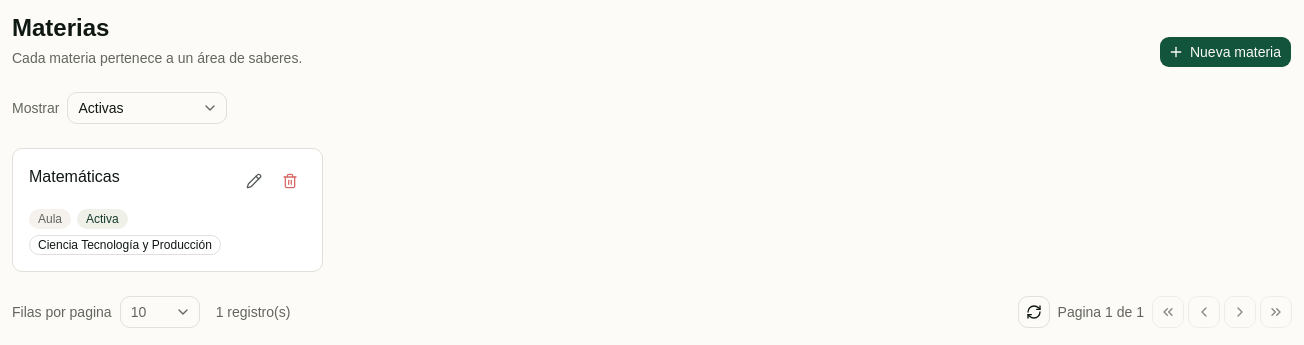
it: SubjectsPage status filter › lists both kinds under Todas
The image size is (1304, 345).
What coordinates should you click on to do the following:
click the dropdown named "Estado"
I would click on:
 (148, 108)
Its box is [68,92,228,124].
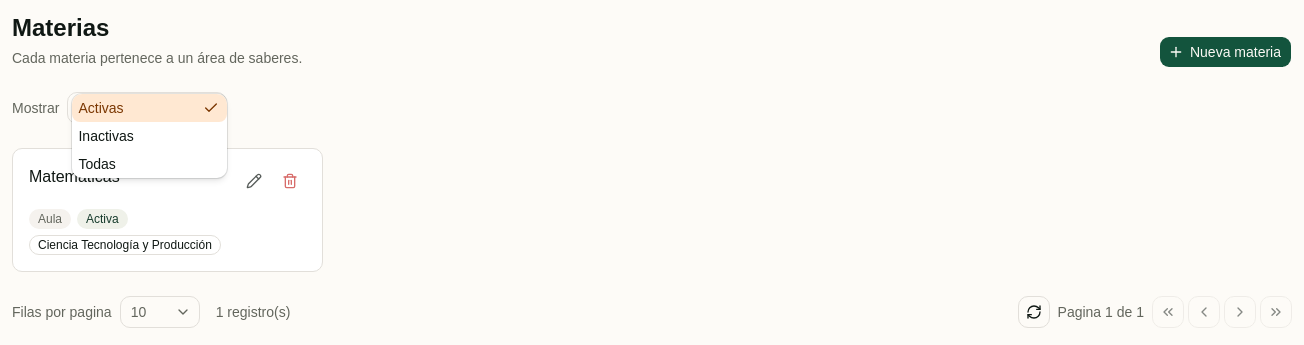
What coordinates should you click on to do the following:
click the option "Todas"
I would click on:
 (97, 164)
Its box is [78,156,116,172].
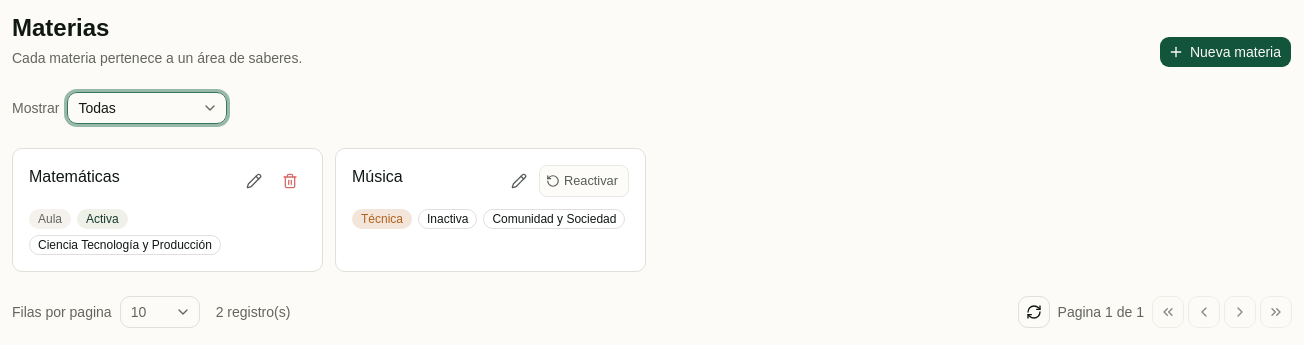
Expected: the text "Matemáticas" is shown, [29,165,120,189]
Result: the text "Música" is shown at [352,165,403,189]
